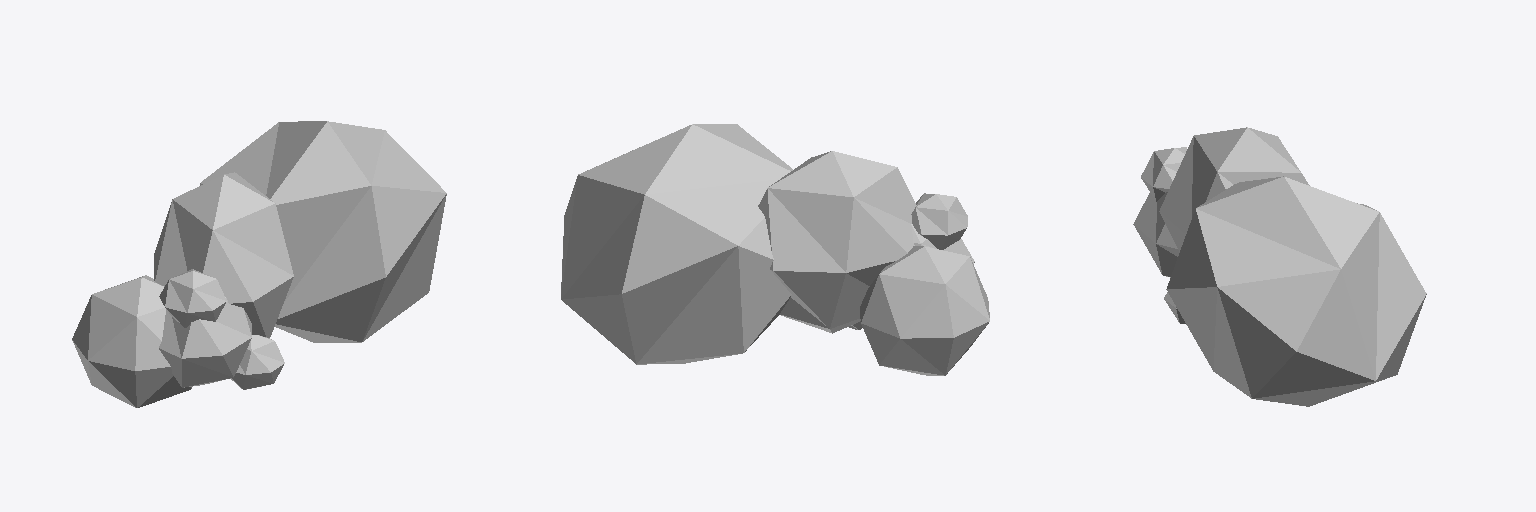
File: cloud.obj
3 renders of one model, left to right at view 1: azimuth 30°, elevation 25°; view 2: azimuth 150°, elevation 25°; view 3: azimuth 270°, elevation 25°, orthographic.
Visible parts, largest first — view 1: Group005_GeoSphere032; view 2: Group005_GeoSphere032; view 3: Group005_GeoSphere032.
Part boxes in pixels (x1,y1,x2,y2): Group005_GeoSphere032: (72, 121, 446, 407); Group005_GeoSphere032: (561, 124, 989, 375); Group005_GeoSphere032: (1133, 127, 1426, 406).
Bounding box in the file's own units: 98.22 × 55.48 × 63.94.